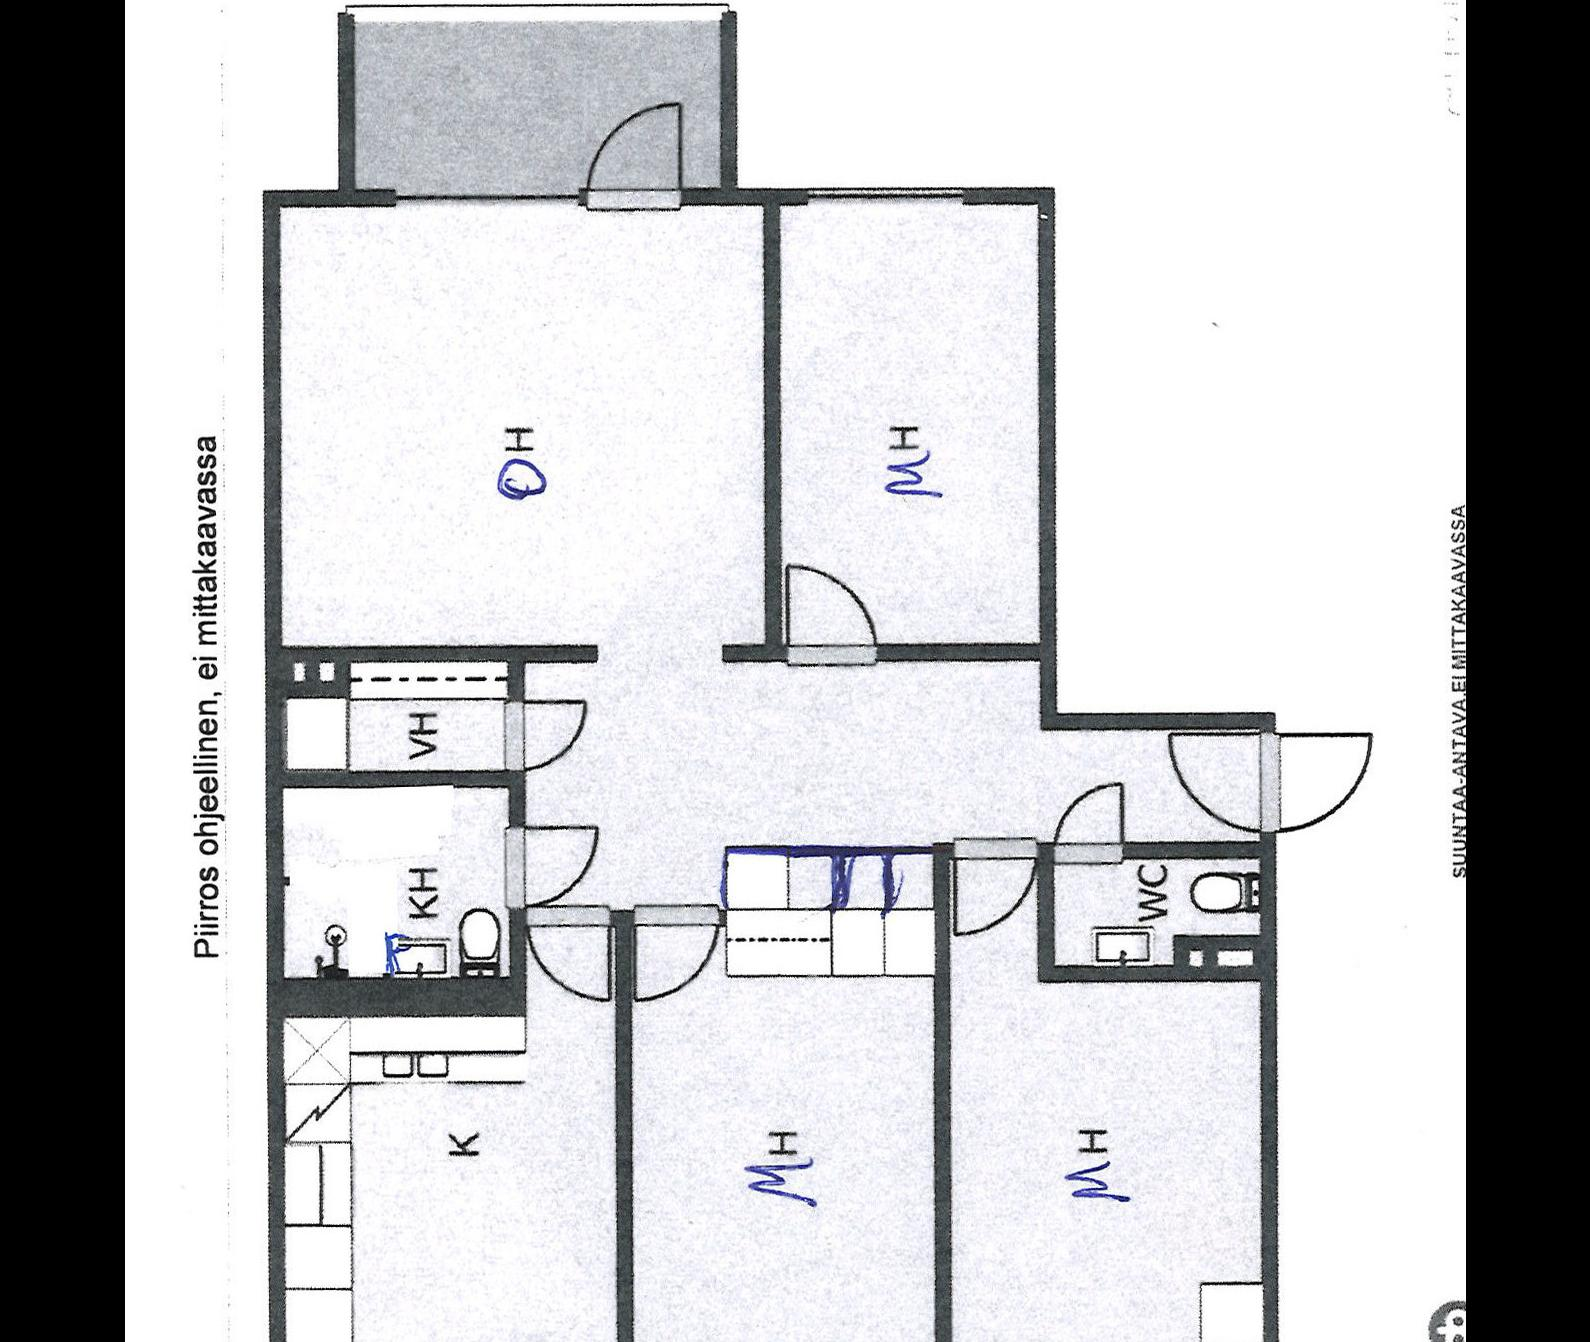door: (568, 94, 688, 221), (1262, 718, 1374, 832), (1164, 723, 1276, 837), (626, 898, 725, 1010), (783, 559, 880, 673), (496, 816, 602, 912), (950, 834, 1038, 940), (522, 904, 612, 1001), (1048, 774, 1132, 872), (499, 694, 594, 773)
window: (376, 184, 592, 212), (792, 182, 975, 214)
